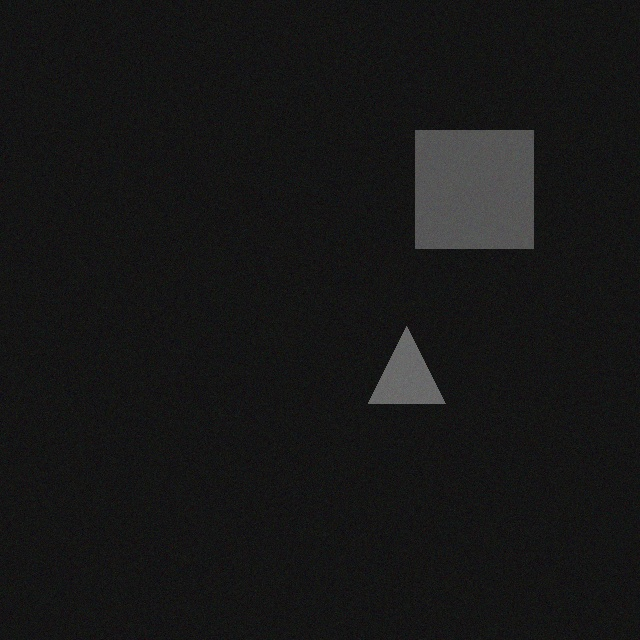square: (411, 142, 529, 260)
triangle: (364, 338, 441, 415)
